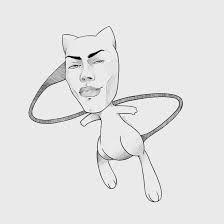mewing: (64, 35, 117, 112)
